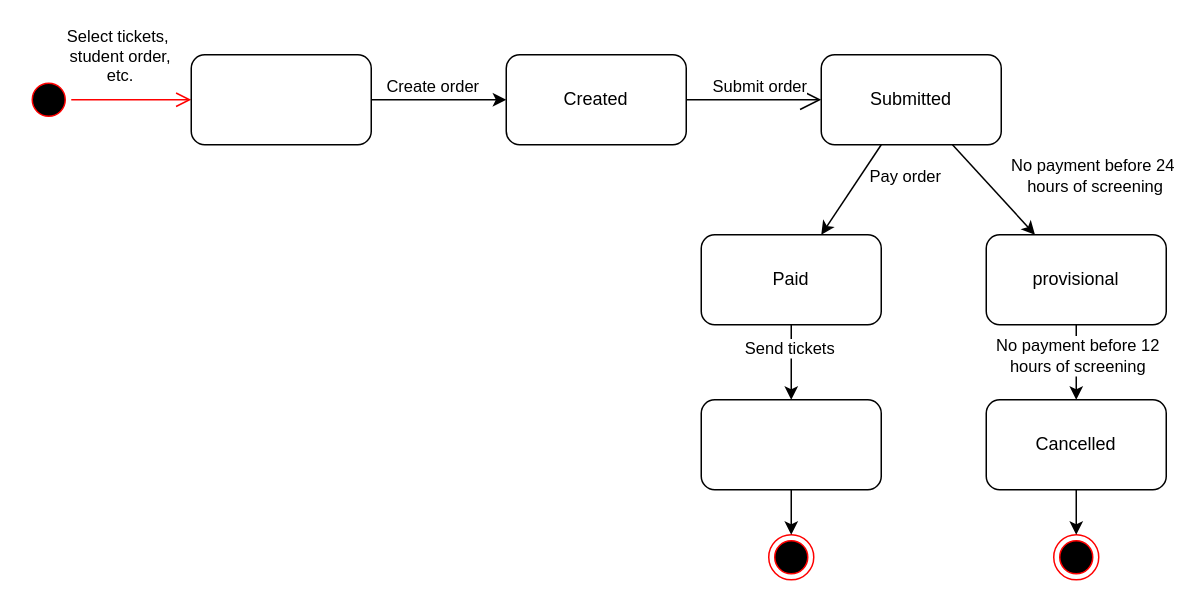
The diagram is 1200 pixels wide and 606 high, and some of its shapes have lost their labels. Each missing label, with the box of its shape:
Concept: (190, 53, 371, 145)
Handled: (700, 398, 881, 490)
